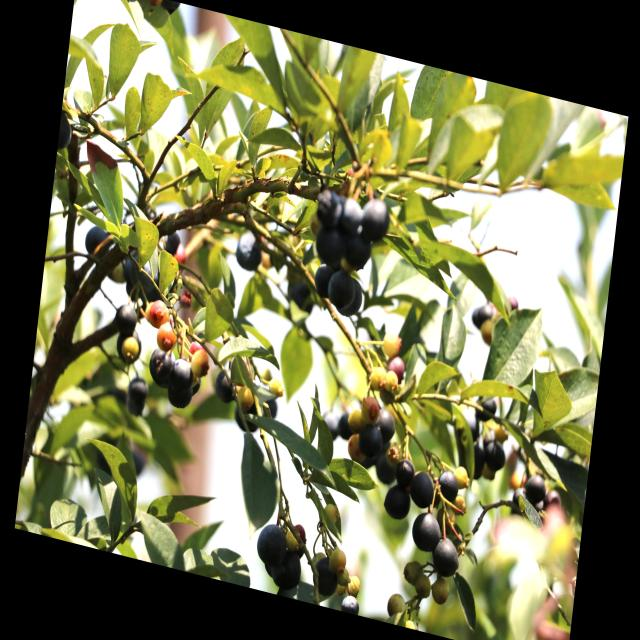blueberry: (356, 190, 397, 247), (405, 505, 446, 562), (253, 516, 294, 572), (426, 529, 462, 588), (310, 222, 349, 274), (322, 265, 360, 318), (353, 415, 391, 468), (308, 182, 347, 232), (268, 543, 304, 597), (79, 214, 117, 264), (144, 343, 180, 395), (306, 254, 341, 306), (311, 546, 343, 602), (338, 272, 368, 330), (345, 227, 377, 281), (377, 482, 415, 526), (469, 385, 505, 431), (405, 465, 438, 515), (334, 186, 366, 237), (432, 460, 464, 510), (168, 355, 200, 404), (479, 433, 512, 479), (522, 466, 553, 512), (380, 444, 406, 495), (537, 480, 568, 522), (370, 402, 400, 445), (391, 450, 419, 495), (57, 103, 79, 158), (333, 586, 366, 616)
blueberry-halfripe: (155, 322, 179, 356), (147, 297, 169, 330), (360, 394, 381, 426), (386, 352, 407, 382)
blueberry-unripe: (120, 332, 141, 364), (190, 347, 210, 380), (381, 329, 401, 360), (235, 382, 255, 410), (369, 364, 385, 391), (268, 375, 284, 399), (383, 371, 399, 394)
